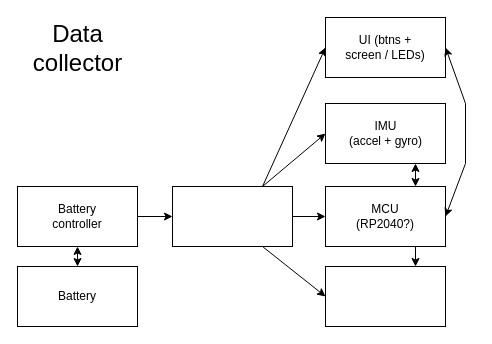
Image size: 492x344. Some labels were removed from this diagram. Here are the shapes that lost their labels. From the top down, the box of each, then its label:
(172, 186, 292, 246): Voltage converter
(324, 266, 446, 326): SC card
